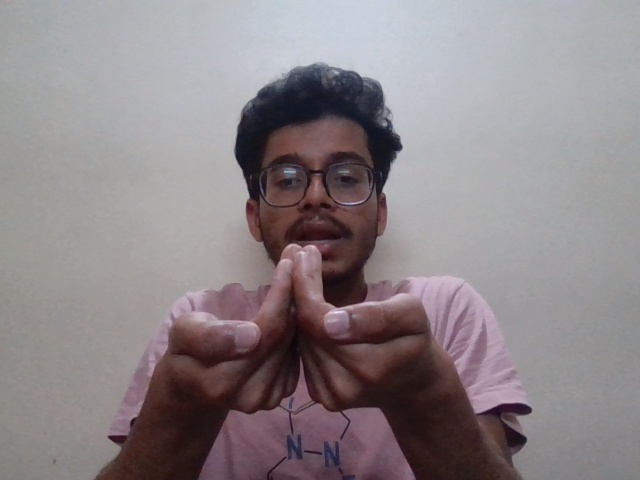tomorrow: (161, 244, 440, 416)
